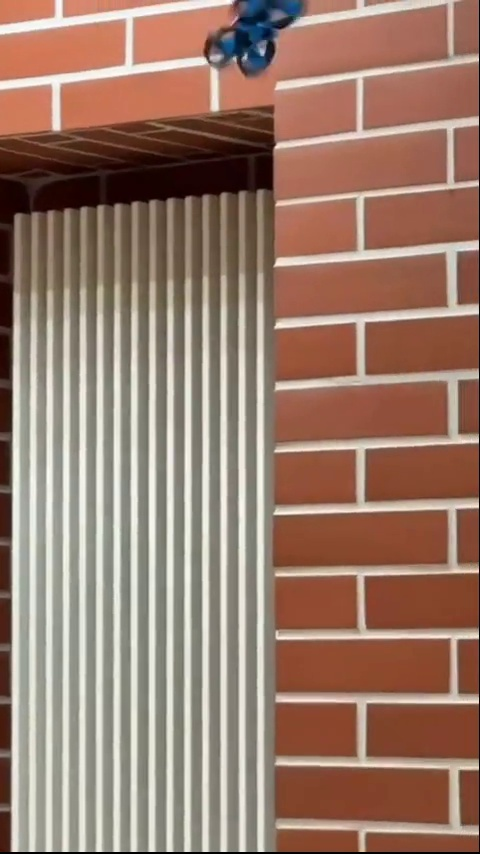drone: (202, 0, 308, 85)
